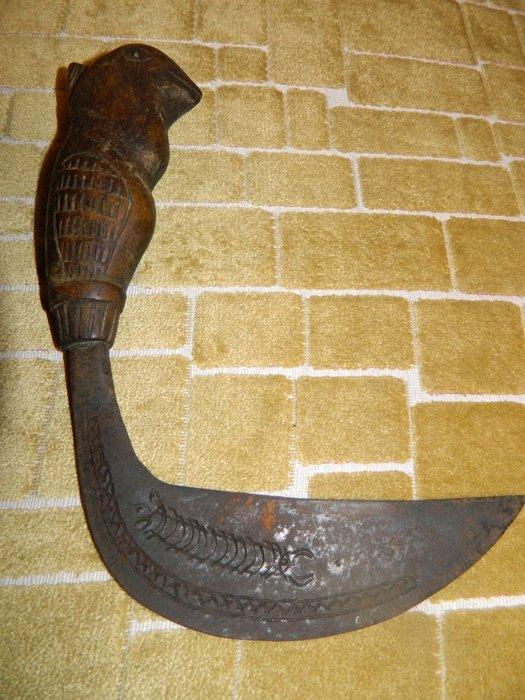foice: (34, 45, 522, 639)
